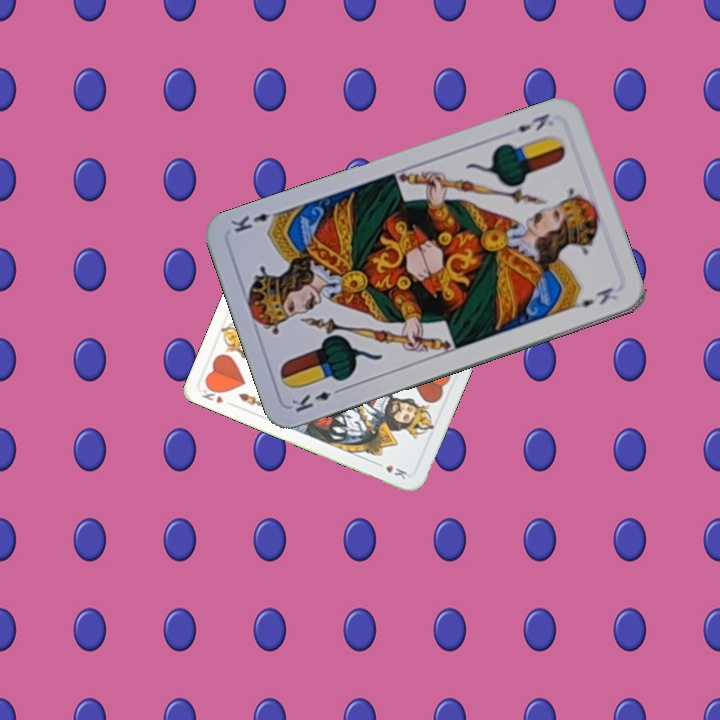EK: (287, 383, 346, 415), (513, 109, 552, 135)
HK: (198, 381, 226, 406)
